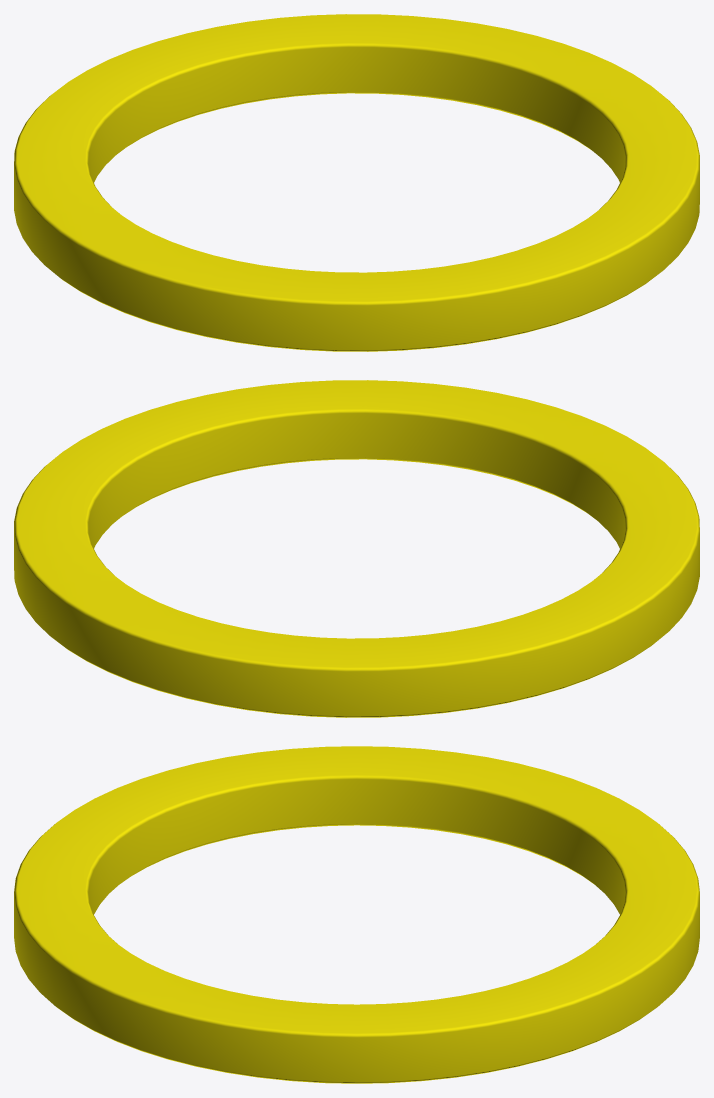
The picture shows the model from 3 angles, top to bottom: view 1: azimuth 30°, elevation 25°; view 2: azimuth 150°, elevation 25°; view 3: azimuth 270°, elevation 25°; orthographic projection.
Parts seen in each view (by area): view 1: seal_body; view 2: seal_body; view 3: seal_body.
Boxes of the visible parts, x1,y1,x2,y2 form: seal_body: (14,14,699,351); seal_body: (14,380,699,717); seal_body: (14,746,699,1083).
Size of the model in its own units: 0.0325 by 0.00264 by 0.0325.
